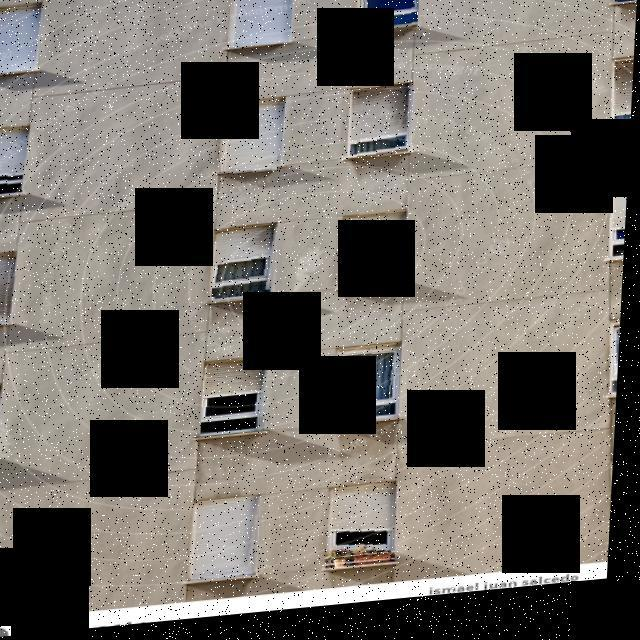Window: (206, 359, 276, 445), (345, 216, 415, 296), (202, 502, 268, 582), (215, 228, 284, 302), (336, 493, 404, 565), (350, 92, 414, 168), (222, 105, 282, 182), (340, 354, 400, 426), (232, 0, 296, 52), (0, 2, 45, 72), (357, 0, 421, 46), (0, 124, 32, 193), (0, 252, 22, 328), (616, 68, 636, 138), (611, 197, 630, 270), (614, 336, 624, 412), (0, 383, 9, 456), (614, 0, 640, 15)
